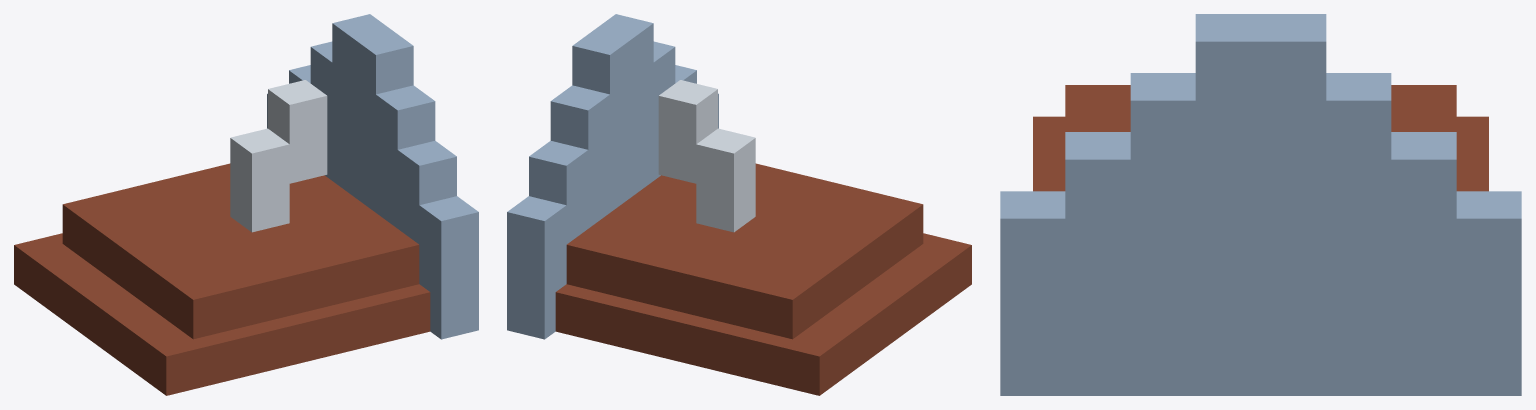
The model's file is tomb-03.obj.
The picture shows the model from 3 angles, left to right: view 1: azimuth 30°, elevation 25°; view 2: azimuth 150°, elevation 25°; view 3: azimuth 270°, elevation 25°; orthographic projection. The views are drawn at different scales.
Size of the model in its own units: 8 by 6 by 8.
1 material, 1 textured.
